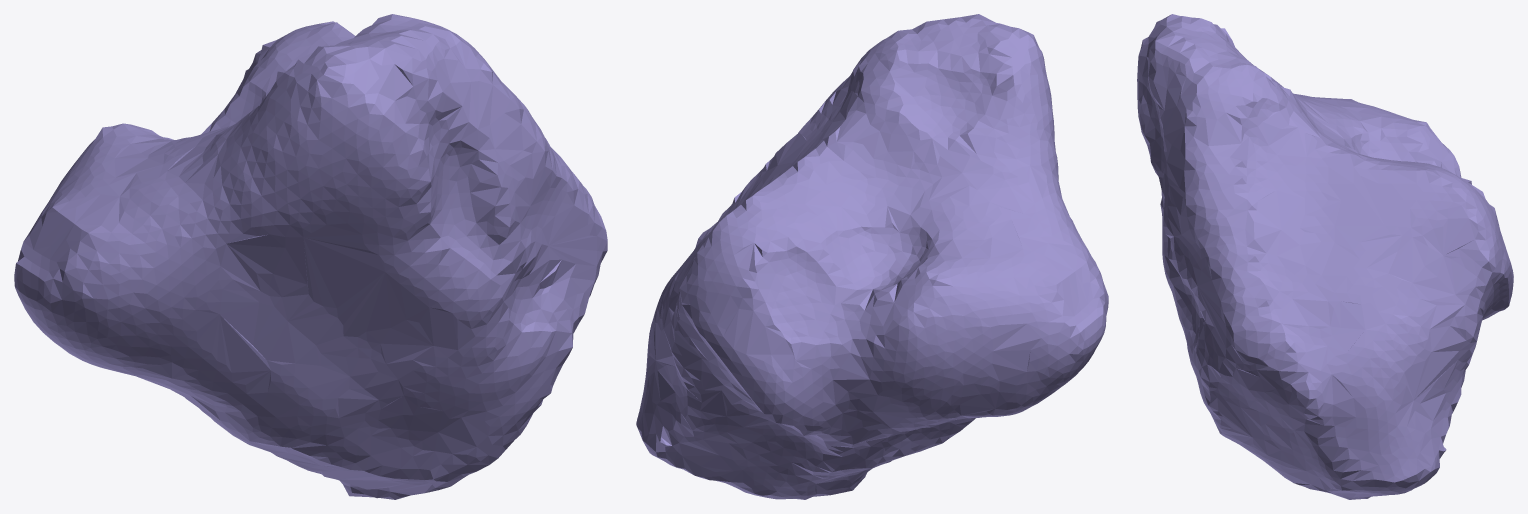
Rendered from Model_280_RH__Medial_pulvinar_(MPul).obj.
The picture shows the model from 3 angles, left to right: view 1: azimuth 30°, elevation 25°; view 2: azimuth 150°, elevation 25°; view 3: azimuth 270°, elevation 25°; orthographic projection. The views are drawn at different scales.
Size of the model in its own units: 3.76 by 3.54 by 2.99.
